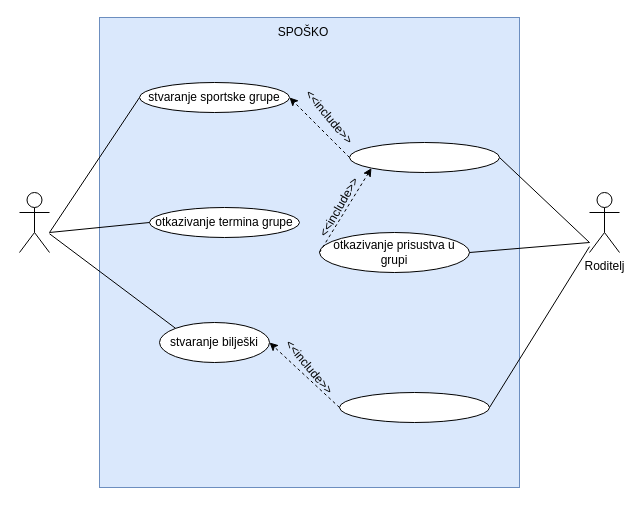
This 642x505 diagram has some shape labels left out. The shapes that lost their labels are listed below. From the top down, each one's centre as x and y in pixels, then its label:
the point at 424,157: prijava djeteta u grupu
the point at 34,222: Trener
the point at 414,407: prikaz bilješki
